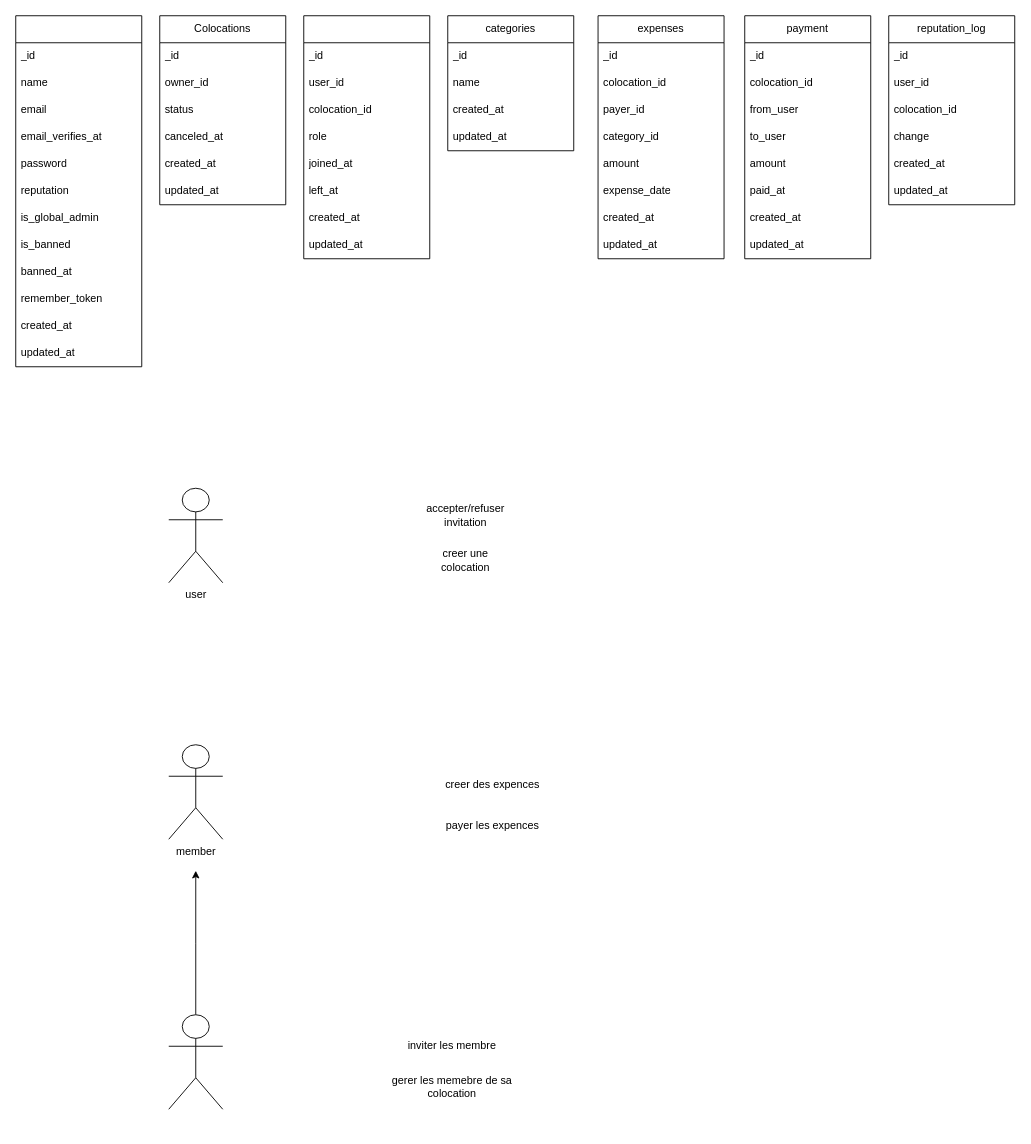
The diagram is 1031 pixels wide and 1144 high, and some of its shapes have lost their labels. The shapes that lost their labels are listed below. From the top down, each one's box as (x1, y1, x2, y2) in pixels, then its label:
(303, 15, 430, 259): memberships
(15, 15, 142, 367): users
(168, 1014, 223, 1109): owner
